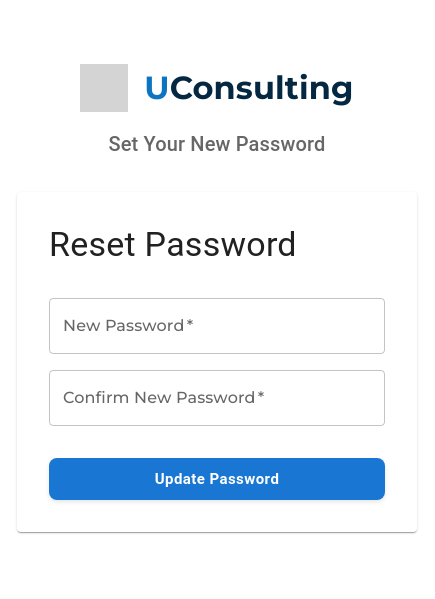
it: ResetPassword › does not submit when the confirmation password is empty
The width and height of the screenshot is (435, 599).
Type "password1" into the password field labelled "New Password *" at (217, 326), box [49,298,385,354]
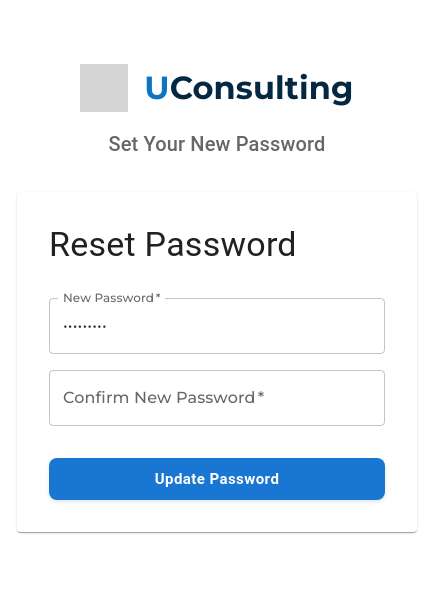
Submit the form with test id "reset-password-form", box [49,298,385,500]
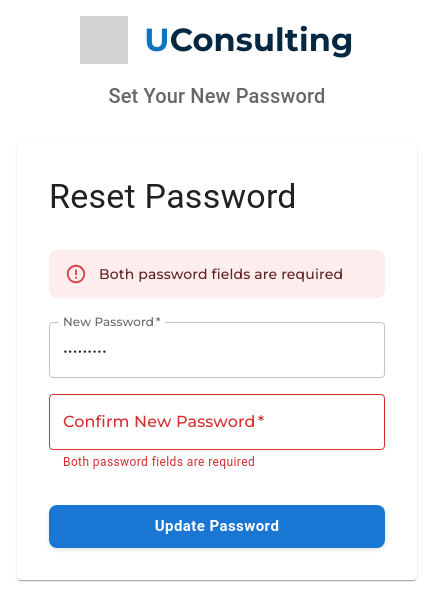
Expected: the text "Both password fields are required" below "Confirm New Password" is shown, [63,455,255,469]
